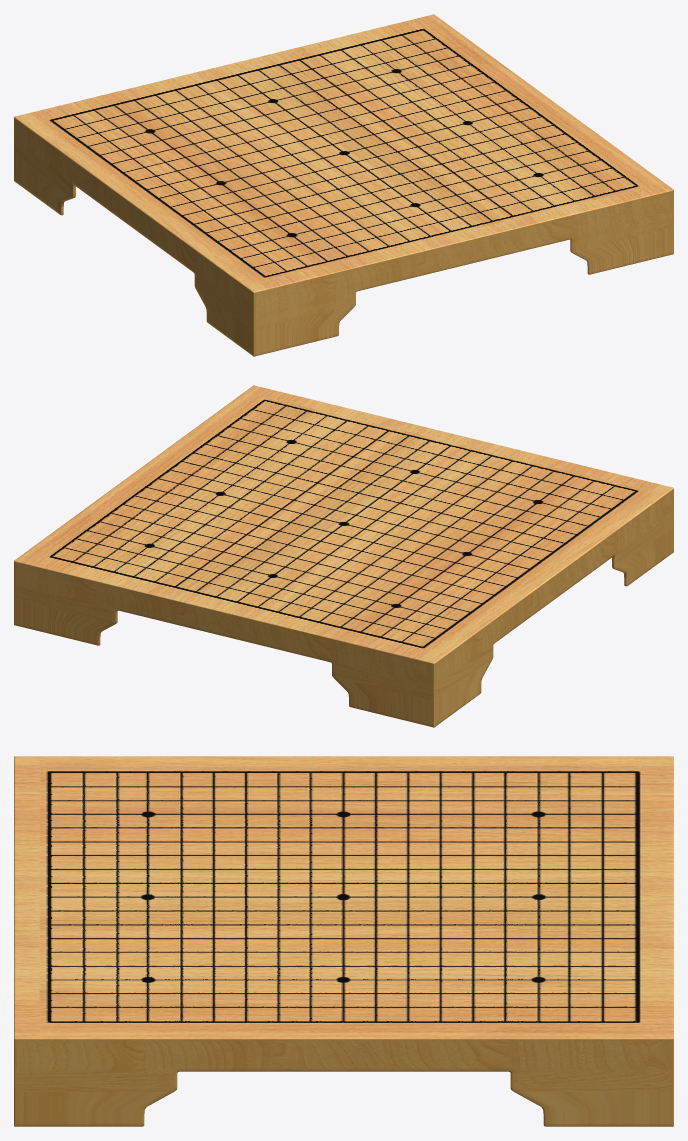
The model's file is board.FBX.
3 renders of one model, top to bottom at view 1: azimuth 30°, elevation 25°; view 2: azimuth 150°, elevation 25°; view 3: azimuth 270°, elevation 25°, orthographic. The views are drawn at different scales.
Visible parts, largest first — view 1: Obj3d66-644200-223-834, Obj3d66-644200-222-131; view 2: Obj3d66-644200-223-834, Obj3d66-644200-222-131; view 3: Obj3d66-644200-223-834, Obj3d66-644200-222-131.
Part boxes in pixels (x1,y1,x2,y2): Obj3d66-644200-223-834: (14, 14, 673, 292); Obj3d66-644200-222-131: (14, 118, 673, 356); Obj3d66-644200-223-834: (14, 385, 673, 663); Obj3d66-644200-222-131: (14, 489, 673, 727); Obj3d66-644200-223-834: (14, 756, 673, 1039); Obj3d66-644200-222-131: (14, 1039, 673, 1126).
Size of the model in its own units: 47.5 by 6.99 by 46.94.
2 materials, 2 textured.
